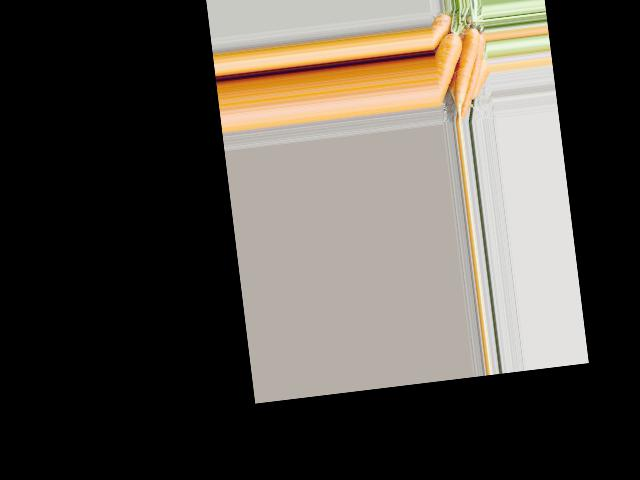carrot: (430, 27, 455, 57)
